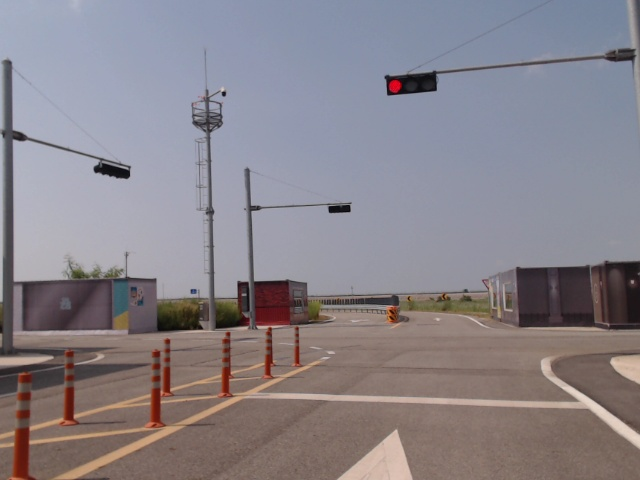red_3: (384, 73, 440, 95)
